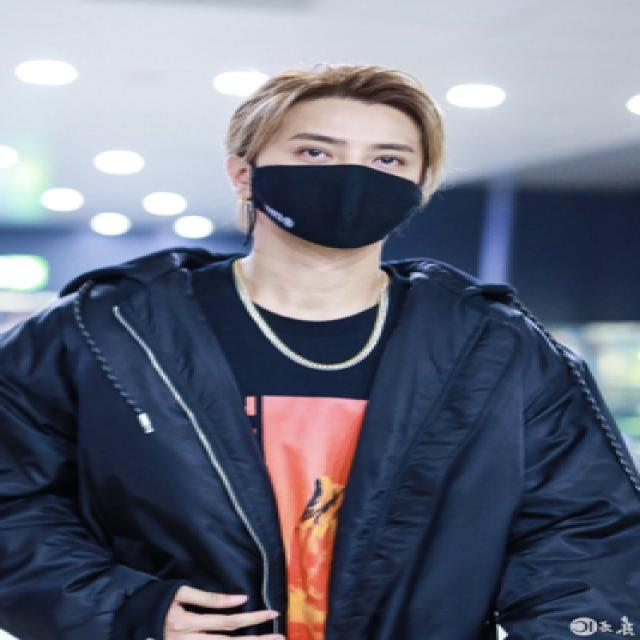mask: (252, 126, 424, 252)
